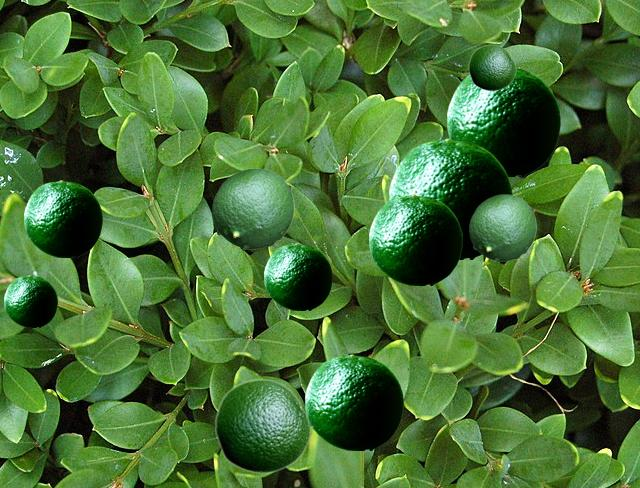calamansi: (389, 138, 511, 258), (447, 67, 559, 175), (305, 354, 402, 449), (214, 378, 310, 473), (369, 194, 461, 284), (212, 168, 293, 248), (24, 180, 101, 256), (264, 243, 331, 309), (469, 194, 535, 260), (4, 275, 56, 326), (468, 44, 515, 90)
